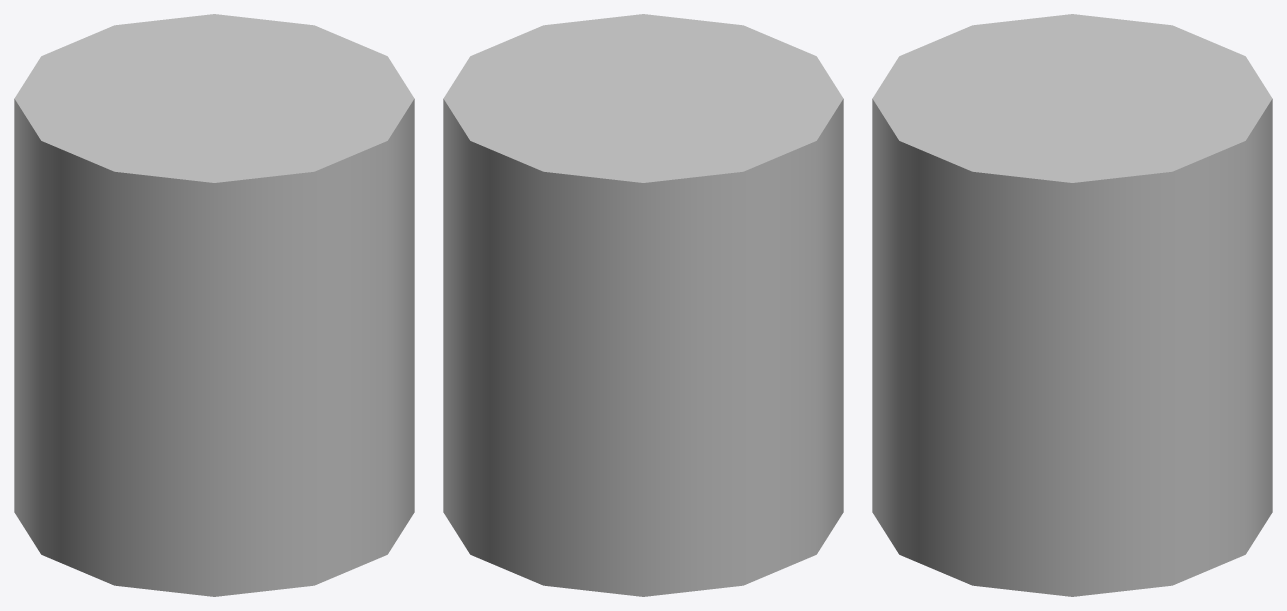
The model's file is TPTallChair.fbx.
3 renders of one model, left to right at view 1: azimuth 30°, elevation 25°; view 2: azimuth 150°, elevation 25°; view 3: azimuth 270°, elevation 25°, orthographic.
Visible parts, largest first — view 1: COLtallchair; view 2: COLtallchair; view 3: COLtallchair.
Boxes of the visible parts, left/top/right/bottom form: COLtallchair: left=14, top=14, right=414, bottom=596; COLtallchair: left=443, top=14, right=843, bottom=596; COLtallchair: left=872, top=14, right=1272, bottom=596.
Size of the model in its own units: 53.67 by 61.27 by 53.67.
